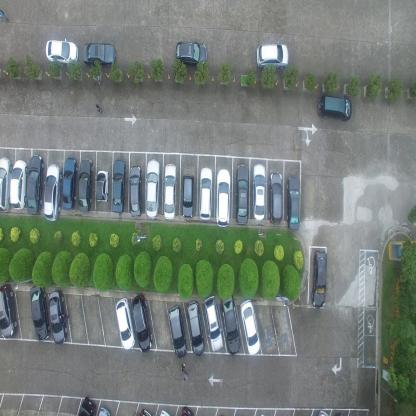car: (131, 292, 153, 353), (221, 294, 241, 357), (29, 282, 50, 342), (204, 295, 224, 353), (240, 298, 260, 356), (115, 296, 136, 351), (26, 153, 44, 216), (48, 288, 68, 344), (43, 162, 61, 223), (187, 300, 205, 358), (316, 93, 352, 122), (168, 305, 187, 359), (44, 36, 78, 66), (0, 283, 18, 339), (311, 249, 327, 310), (82, 41, 117, 68), (10, 158, 28, 210), (256, 42, 288, 71), (174, 39, 207, 67), (216, 167, 231, 228), (146, 158, 160, 220), (252, 162, 266, 224), (235, 163, 249, 225), (268, 172, 284, 226), (78, 156, 93, 213), (62, 157, 78, 210), (111, 159, 126, 214), (286, 175, 300, 233), (0, 155, 13, 215), (128, 164, 142, 217), (164, 164, 177, 221), (199, 166, 212, 222), (182, 172, 194, 219), (94, 169, 109, 203), (78, 397, 96, 415), (97, 404, 110, 415), (180, 405, 194, 415), (316, 407, 331, 415), (139, 407, 152, 415), (159, 408, 171, 416)
